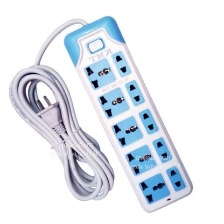three_eye_plug: (59, 13, 195, 214)
